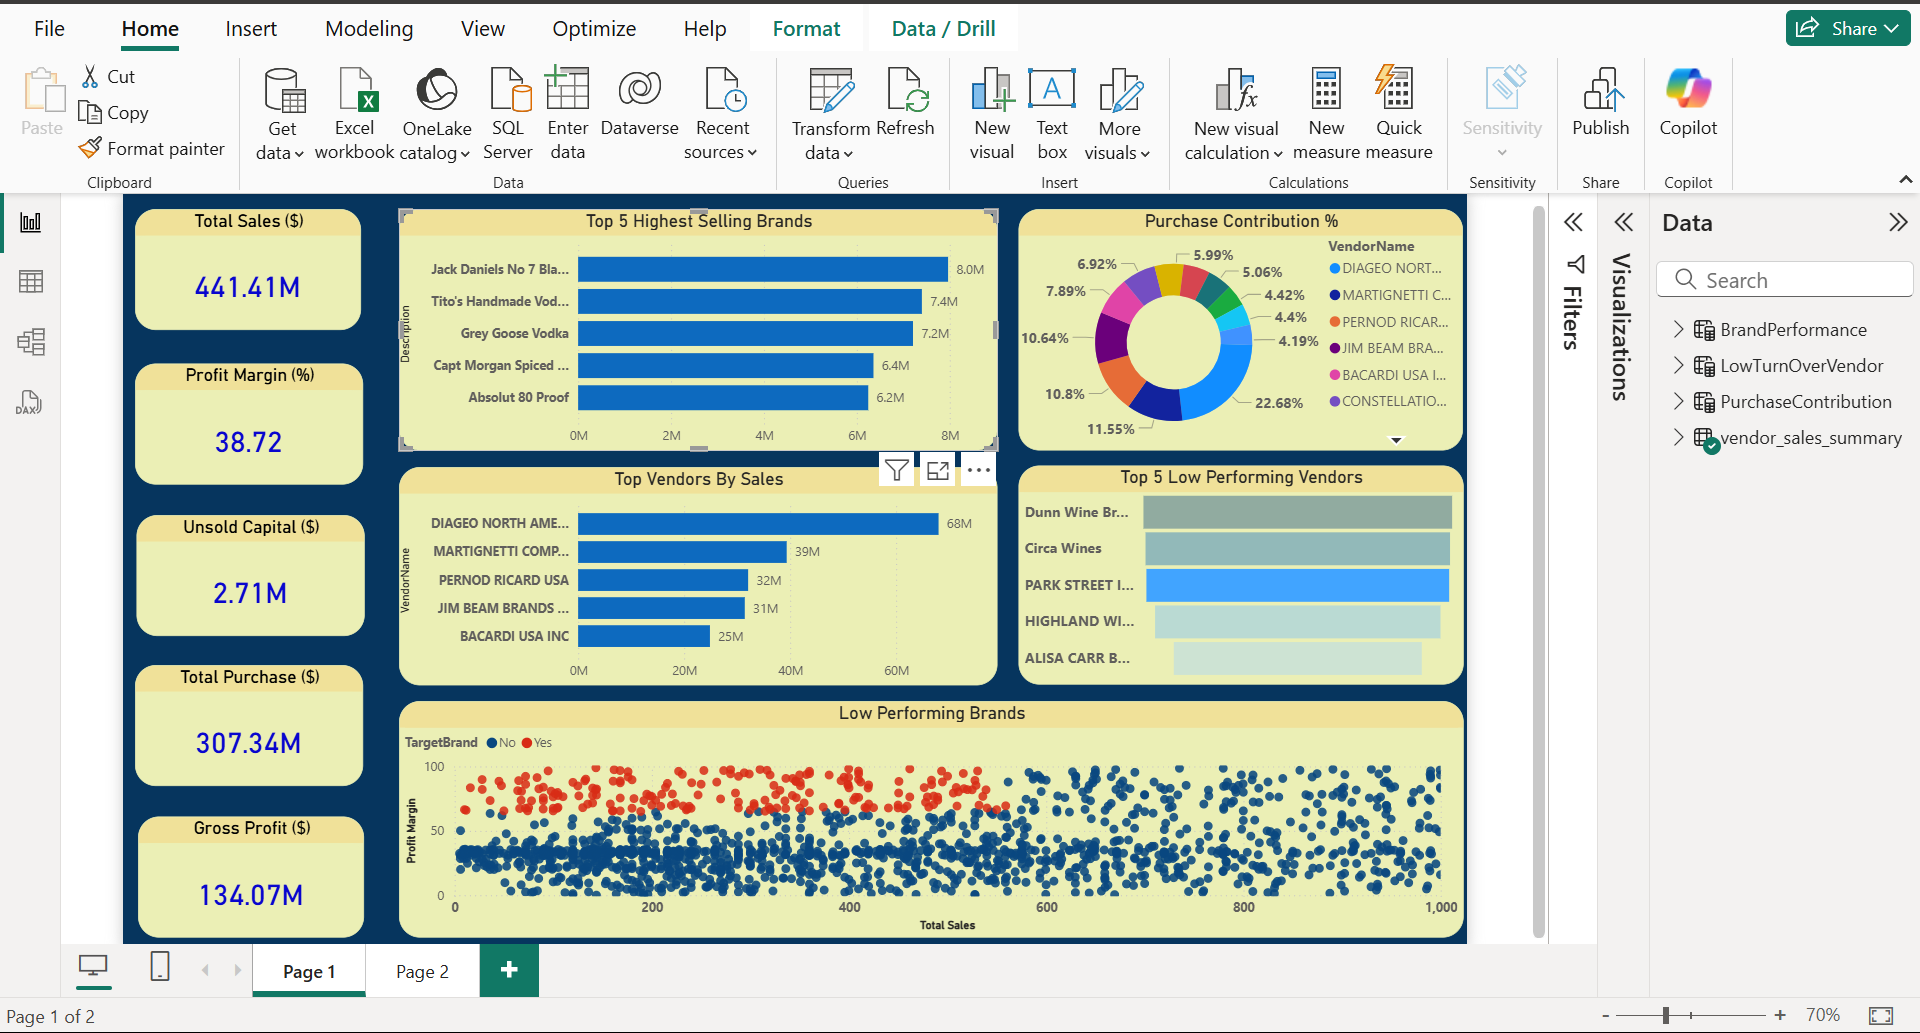

The dashboard page shown, as its layout file describes it:
{"tool":"powerbi","page":{"name":"Page 1","canvas":[1280,720],"ordinal":0},"visuals":[{"type":"cardVisual","title":"Total Sales ($)","fields":{"Data":["vendor_sales_summary.TotalSalesDollars"]},"box":[10.9,14.1,215.6,115.6],"z":0},{"type":"cardVisual","title":"Total Purchase ($)","fields":{"Data":["vendor_sales_summary.TotalPurchaseDollars"]},"box":[10.9,448.4,217.2,115.6],"z":1000},{"type":"cardVisual","title":"Gross Profit ($)","fields":{"Data":["vendor_sales_summary.GrossProfit"]},"box":[14.1,592.2,215.6,115.6],"z":2000},{"type":"cardVisual","title":"Profit Margin (%)","fields":{"Data":["vendor_sales_summary.ProfitMargin"]},"box":[10.9,160.9,217.2,115.6],"z":3000},{"type":"cardVisual","title":"Unsold Capital ($)","fields":{"Data":["vendor_sales_summary.UnSoldCapital"]},"box":[12.5,306.2,217.2,115.6],"z":4000},{"type":"donutChart","title":"Purchase Contribution % ","fields":{"Category":["PurchaseContribution.VendorName"],"Y":["PurchaseContribution.PurchaseContribution%"]},"box":[853.1,14.1,423.4,229.7],"z":5000},{"type":"clusteredBarChart","title":"Top Vendors By Sales","fields":{"Category":["vendor_sales_summary.VendorName"],"Y":["vendor_sales_summary.TotalSalesDollars"]},"box":[262.5,259.4,570.3,207.8],"z":6000},{"type":"clusteredBarChart","title":"Top 5 Highest Selling Brands","fields":{"Category":["vendor_sales_summary.Description"],"Y":["vendor_sales_summary.TotalSalesDollars"]},"box":[262.5,14.1,570.3,229.7],"z":7000},{"type":"funnel","title":"Top 5 Low Performing Vendors","fields":{"Category":["LowTurnOverVendor.VendorName"],"Y":["LowTurnOverVendor.AvgStockTurnOver"]},"box":[852.5,258.9,424,209],"z":8000},{"type":"scatterChart","title":"Low Performing Brands","fields":{"Category":["BrandPerformance.Description"],"X":["BrandPerformance.TotalSales"],"Series":["BrandPerformance.TargetBrand"],"Y":["BrandPerformance.AvgProfitMargin"]},"box":[262.5,482.8,1014.1,225],"z":9000}]}

Visuals, with their boxes on the page's 1280x720 design canvas (x1, y1, x2, y2). These are canvas units, not pixel positions in the 1920x1033 screenshot, which may show the page scaled, cropped or inside an application window:
"Total Sales ($)" cardVisual: pyautogui.locateOnScreen(11, 14, 226, 130)
"Total Purchase ($)" cardVisual: pyautogui.locateOnScreen(11, 448, 228, 564)
"Gross Profit ($)" cardVisual: pyautogui.locateOnScreen(14, 592, 230, 708)
"Profit Margin (%)" cardVisual: pyautogui.locateOnScreen(11, 161, 228, 276)
"Unsold Capital ($)" cardVisual: pyautogui.locateOnScreen(12, 306, 230, 422)
"Purchase Contribution % " donutChart: pyautogui.locateOnScreen(853, 14, 1276, 244)
"Top Vendors By Sales" clusteredBarChart: pyautogui.locateOnScreen(262, 259, 833, 467)
"Top 5 Highest Selling Brands" clusteredBarChart: pyautogui.locateOnScreen(262, 14, 833, 244)
"Top 5 Low Performing Vendors" funnel: pyautogui.locateOnScreen(852, 259, 1276, 468)
"Low Performing Brands" scatterChart: pyautogui.locateOnScreen(262, 483, 1277, 708)
